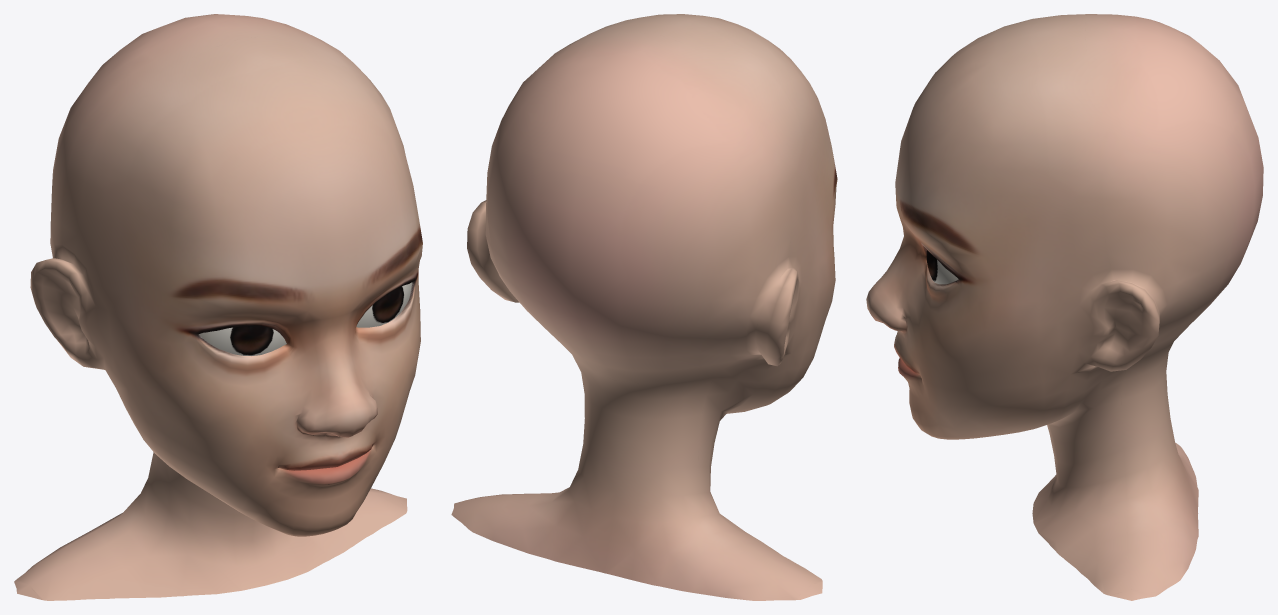
The model's file is asian_male_loPoly_0001_grp_head.glb.
3 renders of one model, left to right at view 1: azimuth 30°, elevation 25°; view 2: azimuth 150°, elevation 25°; view 3: azimuth 270°, elevation 25°, orthographic. The views are drawn at different scales.
Visible parts, largest first — view 1: asian_male_loPoly_body_0001_geo, eyes_R_0001_geo, eyes_L_0001_geo; view 2: asian_male_loPoly_body_0001_geo; view 3: asian_male_loPoly_body_0001_geo, eyes_L_0001_geo.
Part boxes in pixels (x1,y1,x2,y2): asian_male_loPoly_body_0001_geo: [14, 14, 422, 600]; eyes_R_0001_geo: [199, 325, 286, 355]; eyes_L_0001_geo: [356, 282, 412, 327]; asian_male_loPoly_body_0001_geo: [451, 14, 837, 600]; asian_male_loPoly_body_0001_geo: [866, 14, 1263, 600]; eyes_L_0001_geo: [926, 250, 958, 284].
Size of the model in its own units: 0.2677 by 0.3442 by 0.2562.
Materials: 3 (2 with a texture image).
